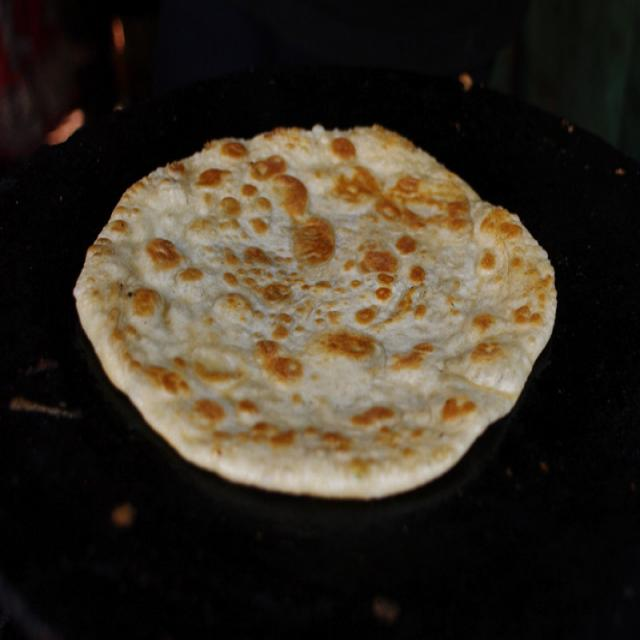roti: (69, 121, 566, 504)
